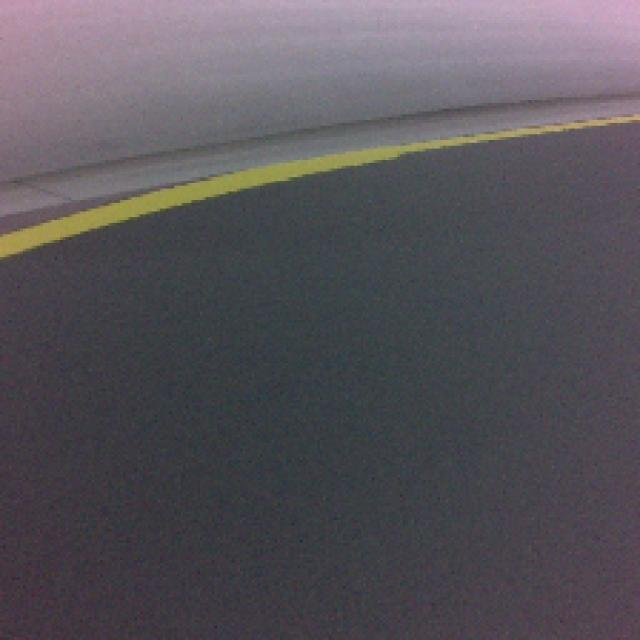Road: (0, 232, 640, 640)
